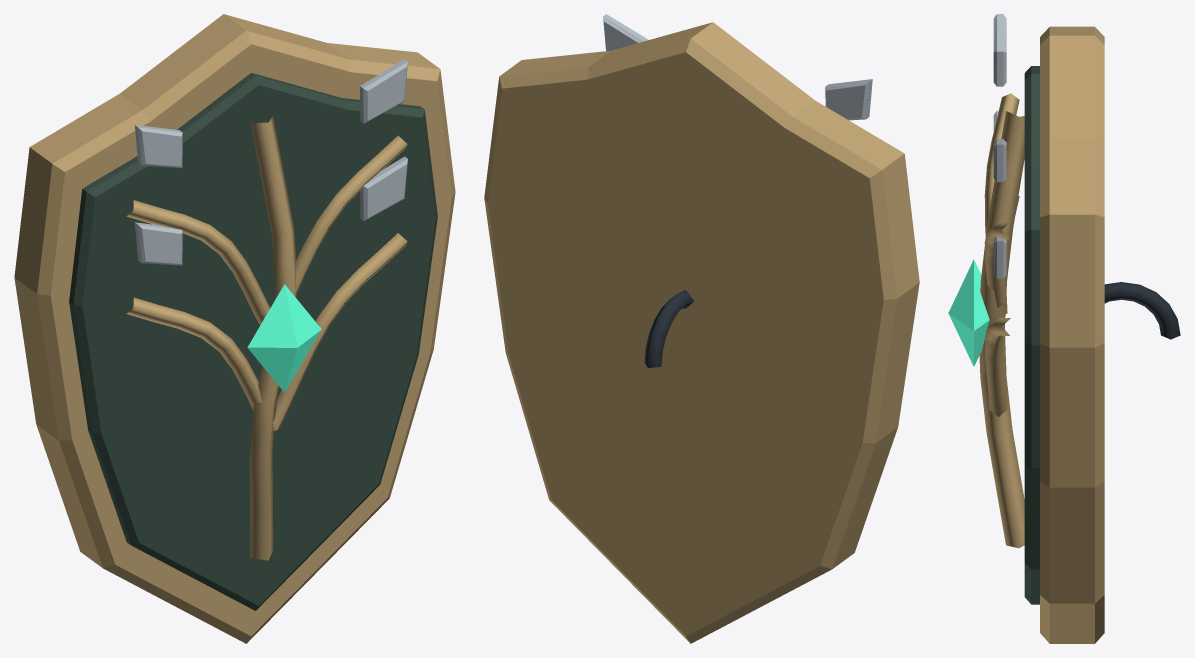
Rendered from universal-low.glb.
3 views of the same model, side by side, from view 1: azimuth 30°, elevation 25°; view 2: azimuth 150°, elevation 25°; view 3: azimuth 270°, elevation 25° (orthographic).
Parts seen in each view (by area): view 1: Grovekeeper Shield; view 2: Grovekeeper Shield; view 3: Grovekeeper Shield.
Boxes of the visible parts, left/top/right/bottom form: Grovekeeper Shield: left=14, top=14, right=455, bottom=643; Grovekeeper Shield: left=484, top=14, right=919, bottom=643; Grovekeeper Shield: left=948, top=14, right=1180, bottom=643.
Size of the model in its own units: 0.5842 by 0.8183 by 0.2832.
